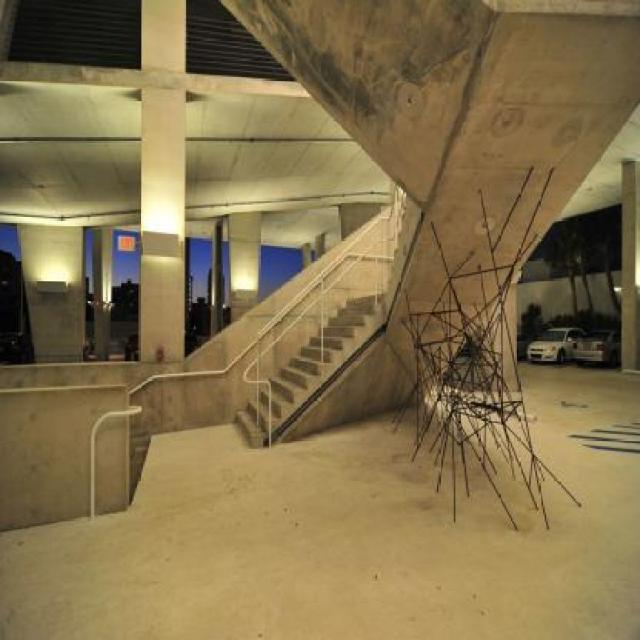stair: (232, 296, 388, 452), (383, 198, 412, 298)
